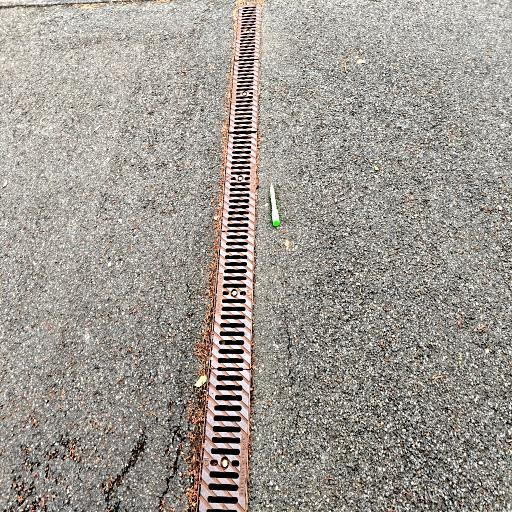Probe-Detection: (270, 183, 279, 226)
